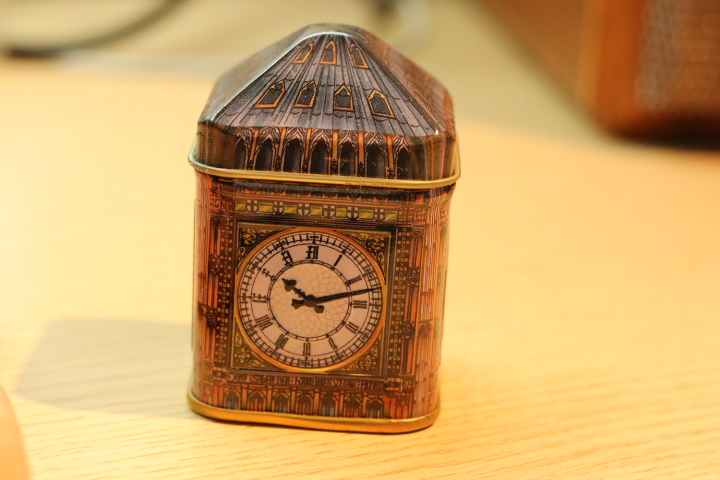Big Ben: (175, 16, 475, 442)
